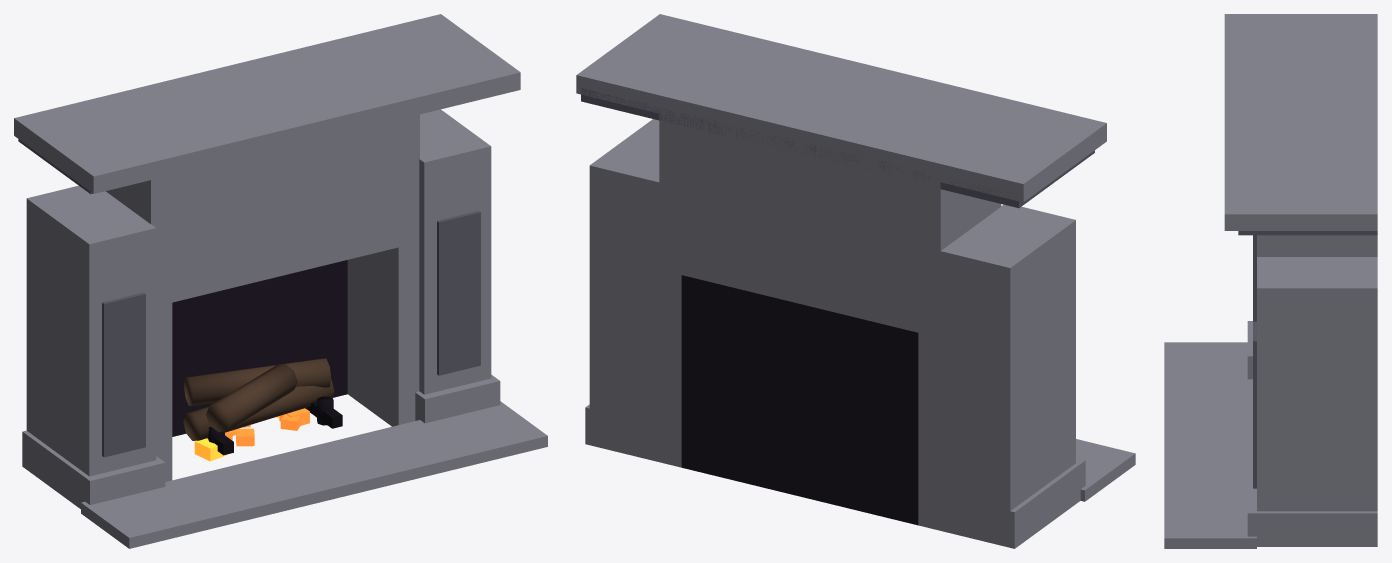
Rendered from fireplace_sword.glb.
3 views of the same model, side by side, from view 1: azimuth 30°, elevation 25°; view 2: azimuth 150°, elevation 25°; view 3: azimuth 270°, elevation 25° (orthographic). The views are drawn at different scales.
Parts seen in each view (by area): view 1: fireplace_sword; view 2: fireplace_sword; view 3: fireplace_sword.
Boxes of the visible parts, x1,y1,x2,y2 form: fireplace_sword: [14, 14, 547, 548]; fireplace_sword: [576, 14, 1135, 548]; fireplace_sword: [1164, 14, 1377, 548].
Size of the model in its own units: 1.02 by 0.8 by 0.46.
